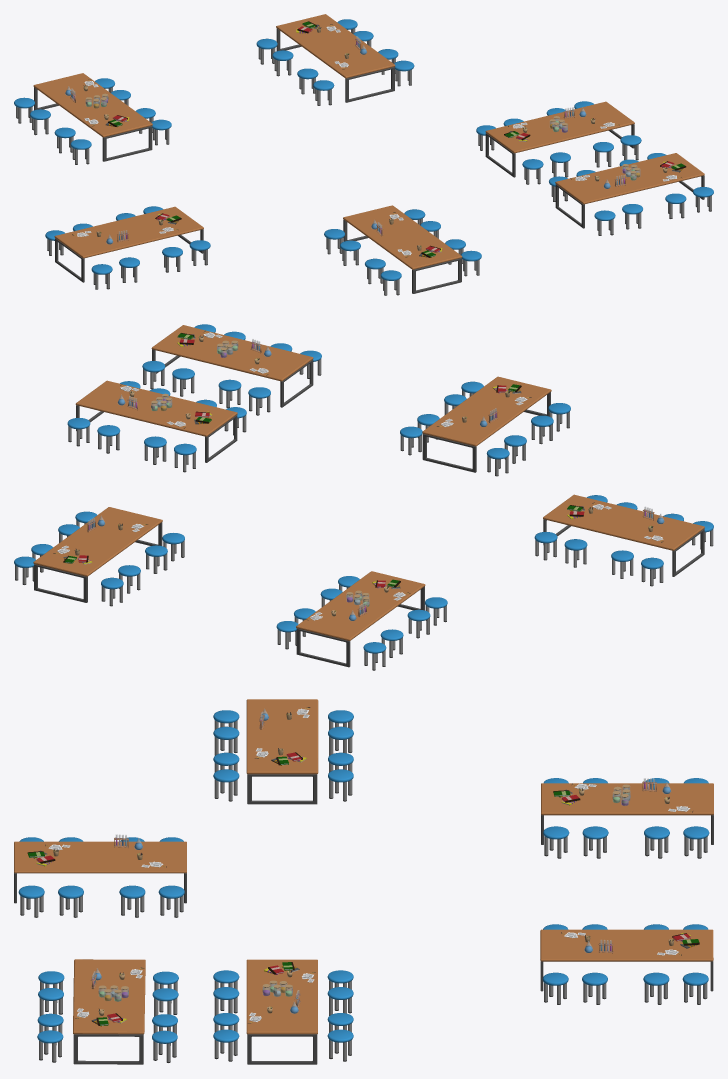
File: d-roombomp-r6-hsab-labor.glb
The picture shows the model from 3 angles, top to bottom: view 1: azimuth 30°, elevation 25°; view 2: azimuth 150°, elevation 25°; view 3: azimuth 270°, elevation 25°; orthographic projection. The views are drawn at different scales.
Visible parts, largest first — view 1: assets-dcomp.008, assets-dcomp.006, x8Table.003, x8Table.004, assets-dcomp.007, x8Table.005; view 2: assets-dcomp.008, assets-dcomp.006, x8Table.003, x8Table.005, assets-dcomp.007, x8Table.004; view 3: assets-dcomp.007, x8Table.005, x8Table.004, x8Table.003, assets-dcomp.006, assets-dcomp.008.
Part boxes in pixels (x1,y1,x2,y2): assets-dcomp.008: (324, 205, 481, 295); assets-dcomp.006: (256, 14, 414, 105); x8Table.003: (14, 73, 171, 164); x8Table.004: (476, 101, 641, 184); assets-dcomp.007: (45, 206, 210, 289); x8Table.005: (549, 153, 713, 235); assets-dcomp.008: (400, 376, 570, 476); assets-dcomp.006: (14, 507, 184, 606); x8Table.003: (276, 571, 447, 670); x8Table.005: (142, 324, 321, 415); assets-dcomp.007: (534, 494, 713, 586); x8Table.004: (67, 380, 246, 472); assets-dcomp.007: (213, 699, 353, 804); x8Table.005: (37, 959, 178, 1064); x8Table.004: (213, 959, 353, 1064); x8Table.003: (541, 778, 713, 858); assets-dcomp.006: (540, 924, 713, 1004); assets-dcomp.008: (14, 834, 186, 917).
Size of the model in its own units: 22.03 by 1.39 by 19.55.
4 materials, 3 textured.
